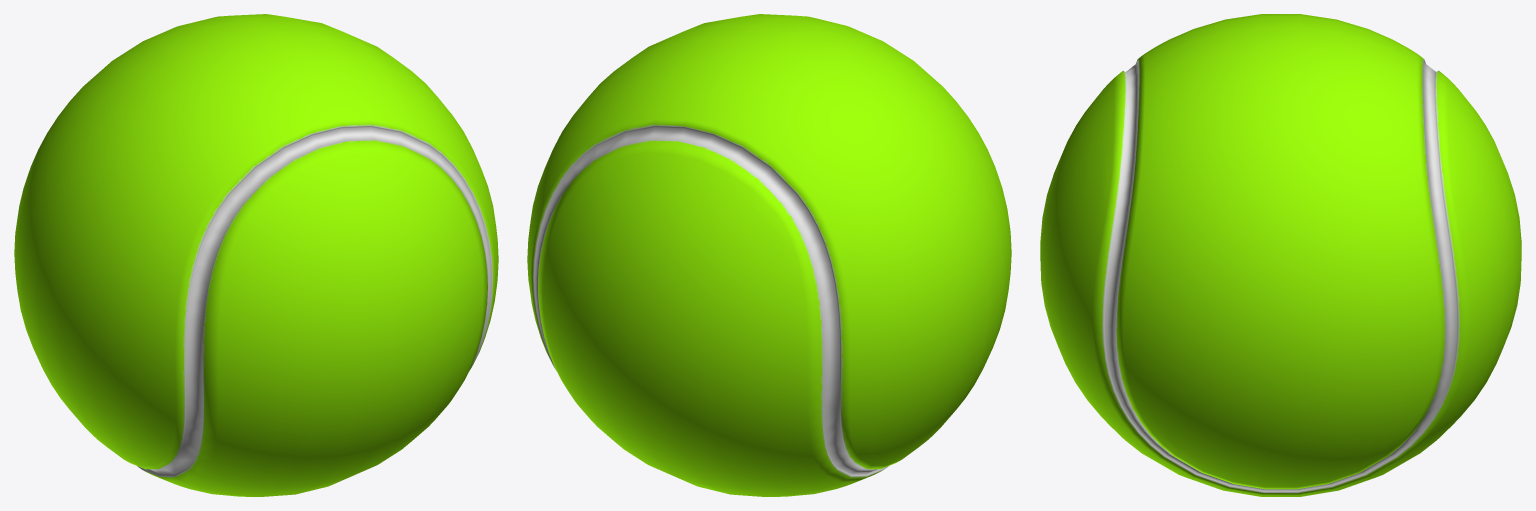
Rendered from TennisBall.fbx.
3 renders of one model, left to right at view 1: azimuth 30°, elevation 25°; view 2: azimuth 150°, elevation 25°; view 3: azimuth 270°, elevation 25°, orthographic.
Parts seen in each view (by area): view 1: tennis_ball; view 2: tennis_ball; view 3: tennis_ball.
Part boxes in pixels (x1=…): tennis_ball: x1=14, y1=14, x2=498, y2=496; tennis_ball: x1=527, y1=14, x2=1011, y2=496; tennis_ball: x1=1040, y1=14, x2=1521, y2=496.
Size of the model in its own units: 162 by 161 by 162.
1 material, 1 textured.
